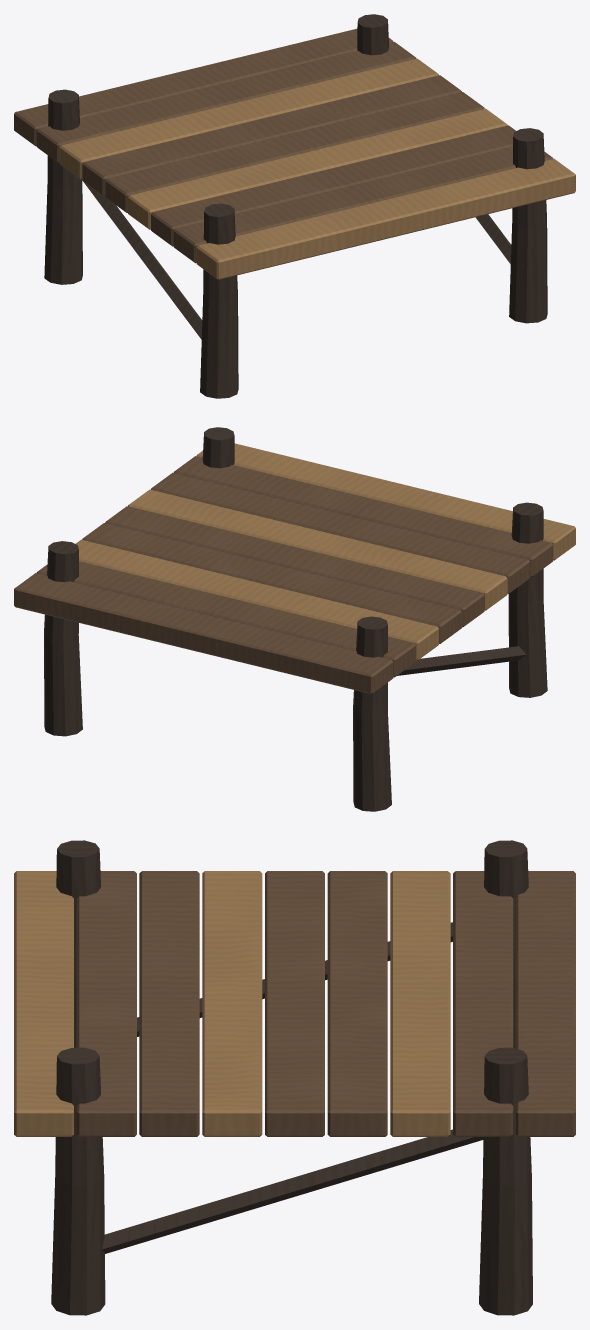
The model's file is AR_Dock_2m.glb.
3 views of the same model, one above another, from view 1: azimuth 30°, elevation 25°; view 2: azimuth 150°, elevation 25°; view 3: azimuth 270°, elevation 25° (orthographic). The views are drawn at different scales.
Visible parts, largest first — view 1: AR_Dock_2m; view 2: AR_Dock_2m; view 3: AR_Dock_2m.
Boxes of the visible parts, x1,y1,x2,y2 form: AR_Dock_2m: (14, 14, 575, 398); AR_Dock_2m: (14, 427, 575, 811); AR_Dock_2m: (14, 840, 575, 1315).
Bounding box in the file's own units: 2 × 0.9639 × 1.97.
Materials: 3 (3 with a texture image).
